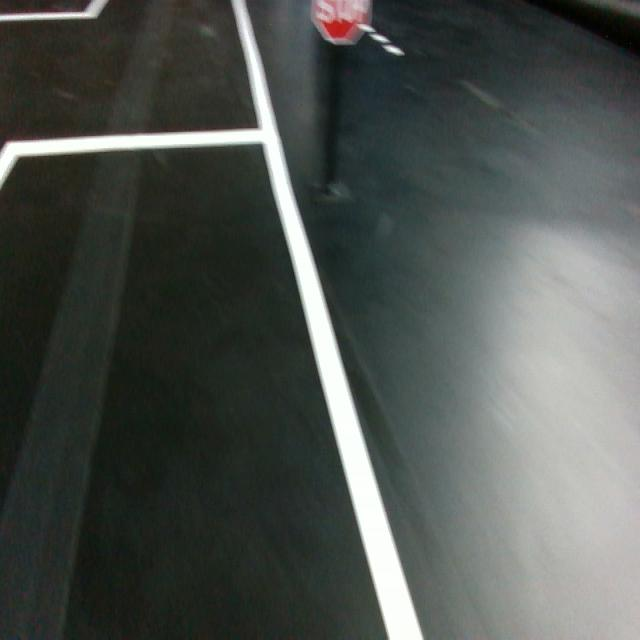stop-sign: (310, 0, 372, 46)
